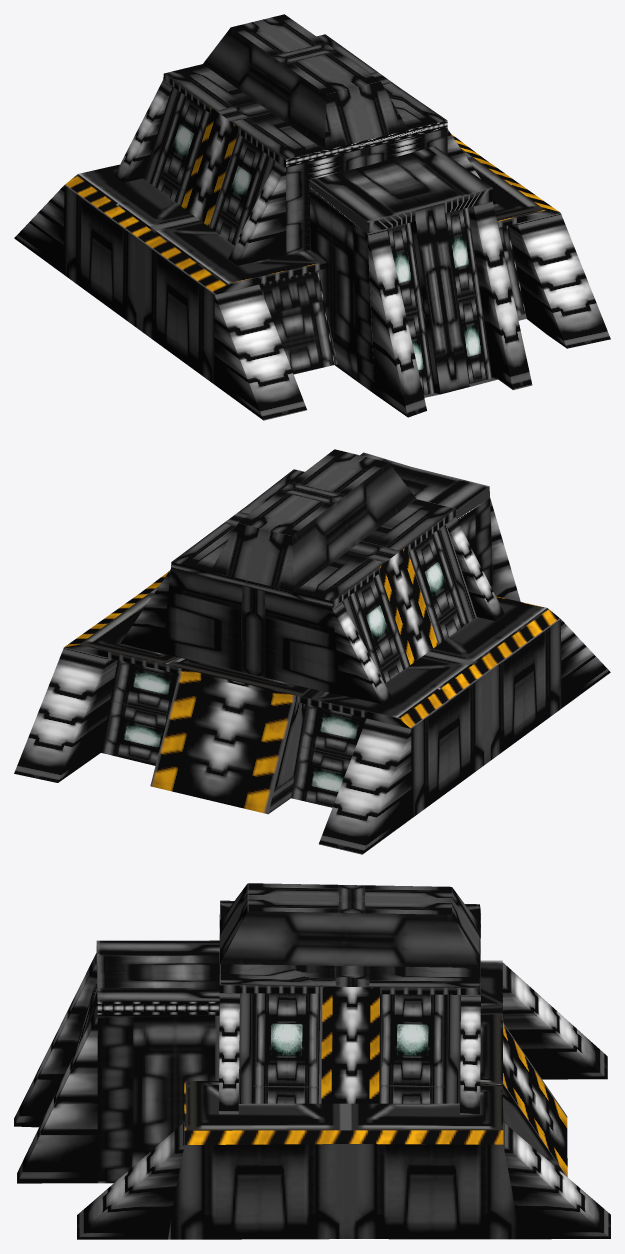
Rendered from Level Assets 2.fbx.
3 views of the same model, one above another, from view 1: azimuth 30°, elevation 25°; view 2: azimuth 150°, elevation 25°; view 3: azimuth 270°, elevation 25° (orthographic). The views are drawn at different scales.
Visible parts, largest first — view 1: Cube.005; view 2: Cube.005; view 3: Cube.005.
Part boxes in pixels (x1,y1,x2,y2): Cube.005: (14, 14, 610, 420); Cube.005: (14, 449, 610, 854); Cube.005: (14, 883, 610, 1239).
Bounding box in the file's own units: 1238 × 812 × 1733.
